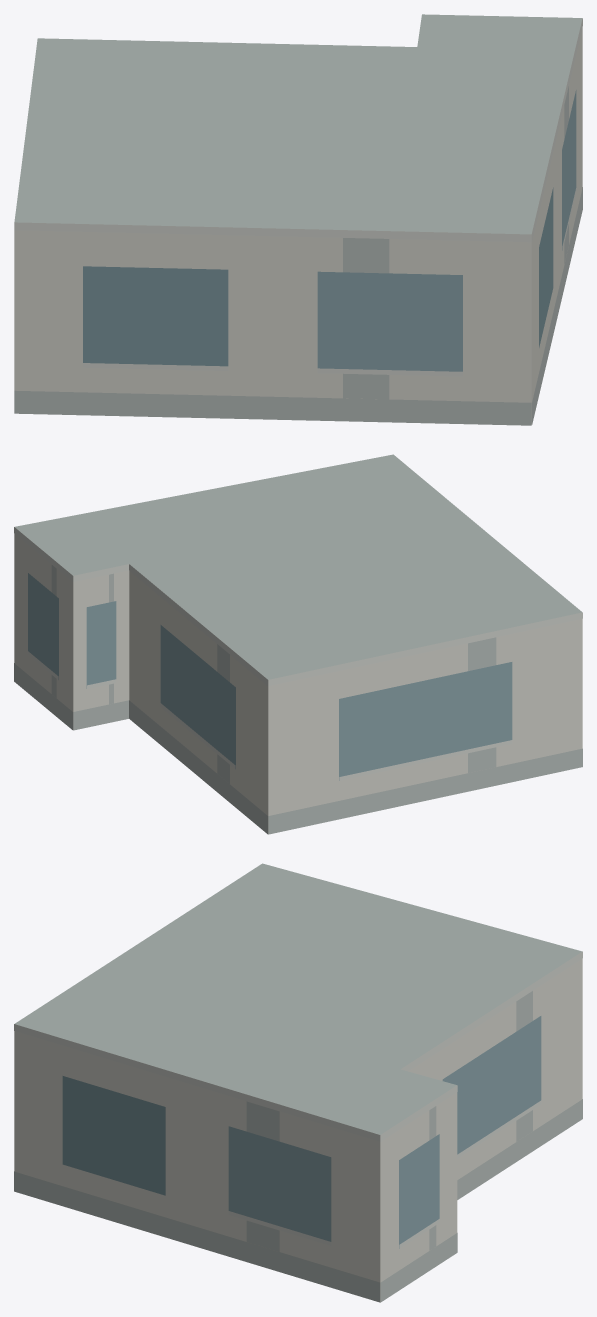
The model's file is residential-d7573b6c-7fbf-47a5-8103-b30f13ac1b17.glb.
3 views of the same model, one above another, from view 1: azimuth 30°, elevation 25°; view 2: azimuth 150°, elevation 25°; view 3: azimuth 270°, elevation 25° (orthographic). The views are drawn at different scales.
Parts seen in each view (by area): view 1: residential-d7573b6c-7fbf-47a5-8103-b30f13ac1b17.tmp; view 2: residential-d7573b6c-7fbf-47a5-8103-b30f13ac1b17.tmp; view 3: residential-d7573b6c-7fbf-47a5-8103-b30f13ac1b17.tmp.
Part boxes in pixels (box(x1,y1,x2,y2)): residential-d7573b6c-7fbf-47a5-8103-b30f13ac1b17.tmp: box(14, 14, 582, 425); residential-d7573b6c-7fbf-47a5-8103-b30f13ac1b17.tmp: box(14, 454, 582, 834); residential-d7573b6c-7fbf-47a5-8103-b30f13ac1b17.tmp: box(14, 863, 582, 1302).
Bounding box in the file's own units: 10.62 × 3.05 × 9.39.
